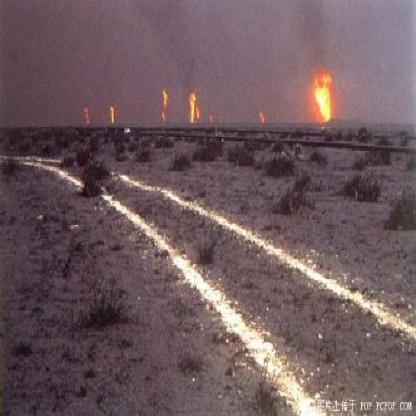fire: (308, 66, 335, 124), (186, 86, 201, 125), (159, 87, 169, 126), (80, 101, 93, 127), (106, 101, 115, 123), (258, 107, 266, 123)
other: (103, 177, 411, 414), (9, 147, 81, 194)
smoke: (153, 11, 199, 79), (295, 14, 321, 61)
